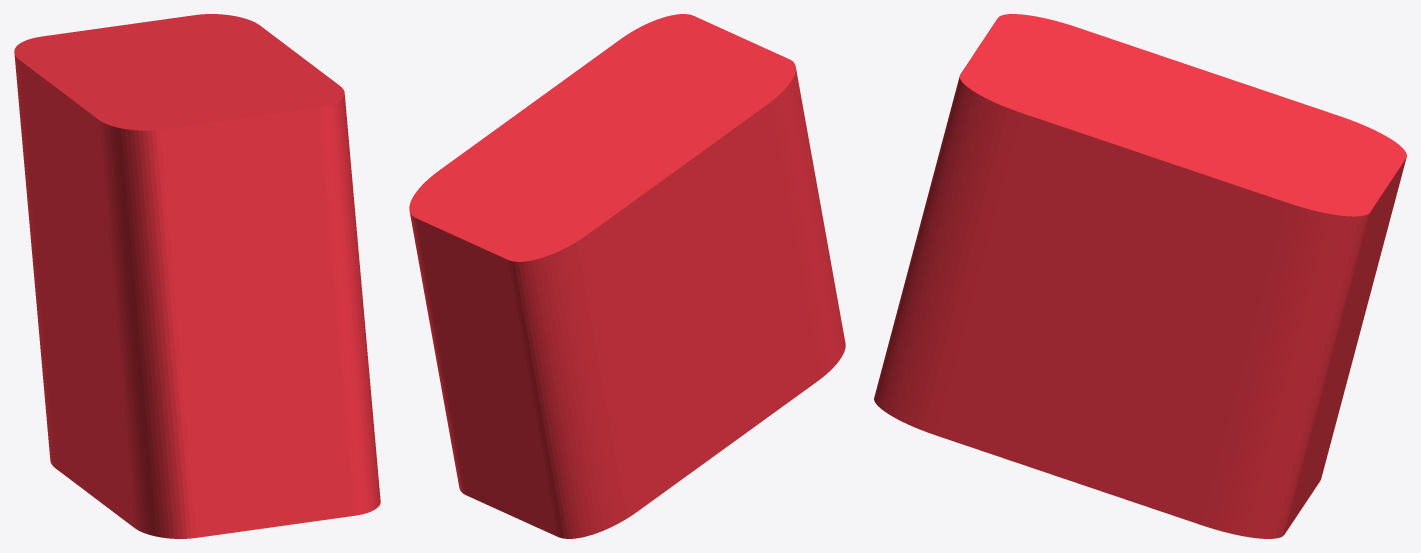
File: mouse_tiny_centre_button-Cx7Wxb_Q.glb
3 views of the same model, side by side, from view 1: azimuth 30°, elevation 25°; view 2: azimuth 150°, elevation 25°; view 3: azimuth 270°, elevation 25° (orthographic). The views are drawn at different scales.
Visible parts, largest first — view 1: StudyShelf_1352; view 2: StudyShelf_1352; view 3: StudyShelf_1352.
Part boxes in pixels (left/top/right/bottom): StudyShelf_1352: left=14, top=14, right=380, bottom=538; StudyShelf_1352: left=409, top=14, right=845, bottom=538; StudyShelf_1352: left=874, top=14, right=1406, bottom=538.
Bounding box in the file's own units: 0.9228 × 1.39 × 1.59.
